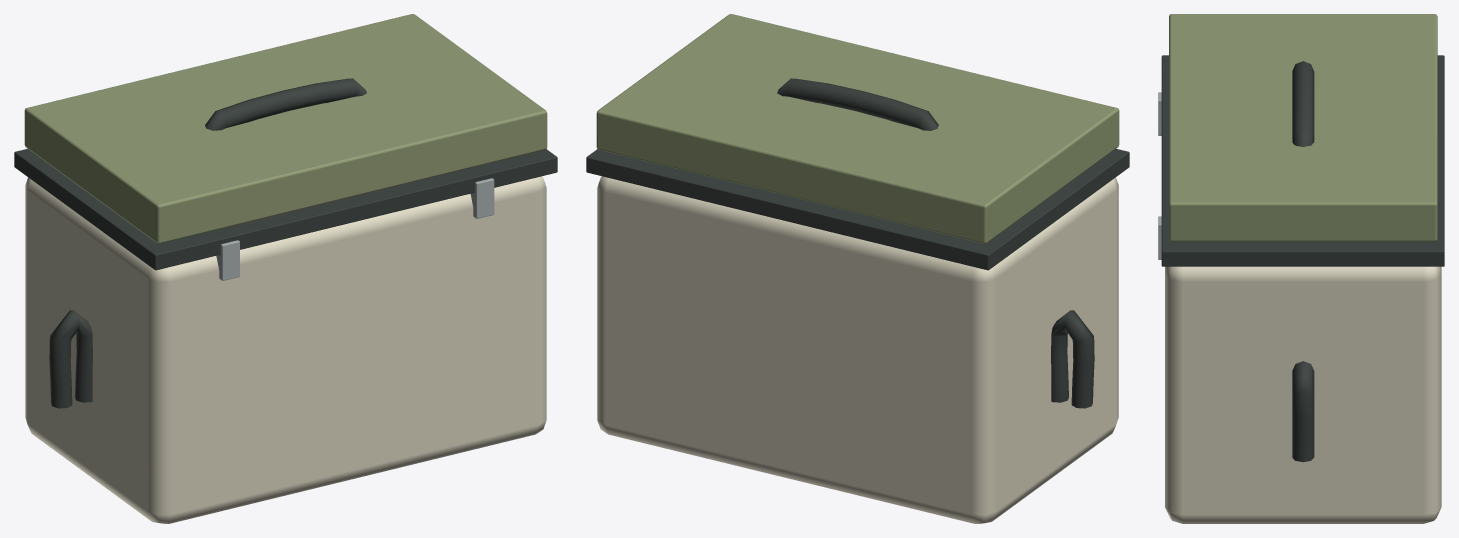
File: survival-food-and-preservation-insulated-cooler-c7775522__21822.glb
3 views of the same model, side by side, from view 1: azimuth 30°, elevation 25°; view 2: azimuth 150°, elevation 25°; view 3: azimuth 270°, elevation 25° (orthographic).
Parts seen in each view (by area): view 1: insulated-cooler, lid/dark; view 2: insulated-cooler, lid/dark; view 3: insulated-cooler, lid/dark.
Boxes of the visible parts, left/top/right/bottom form: insulated-cooler: left=24, top=14, right=547, bottom=523; lid/dark: left=14, top=148, right=557, bottom=270; insulated-cooler: left=596, top=14, right=1119, bottom=523; lid/dark: left=586, top=148, right=1129, bottom=270; insulated-cooler: left=1158, top=14, right=1441, bottom=523; lid/dark: left=1161, top=55, right=1444, bottom=266.
Size of the model in its own units: 0.6877 by 0.4808 by 0.3625.
